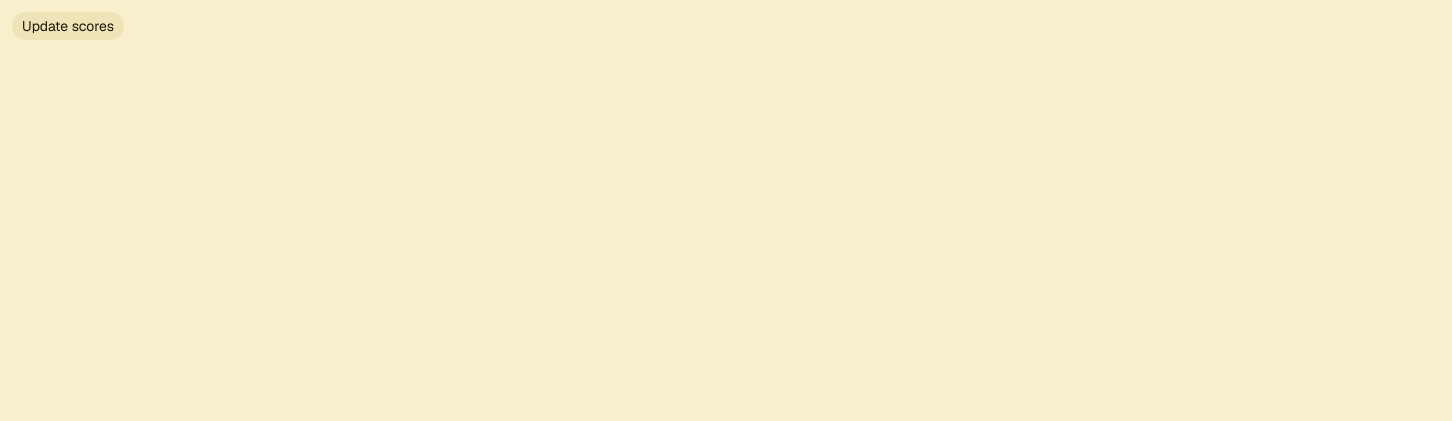
InlineRatingEditor (R51) › saves nothing while the sliders are moved
The image size is (1452, 421).
Click the button "Update scores". click: point(68, 26)
box: top-left (12, 12), bottom-right (124, 40)
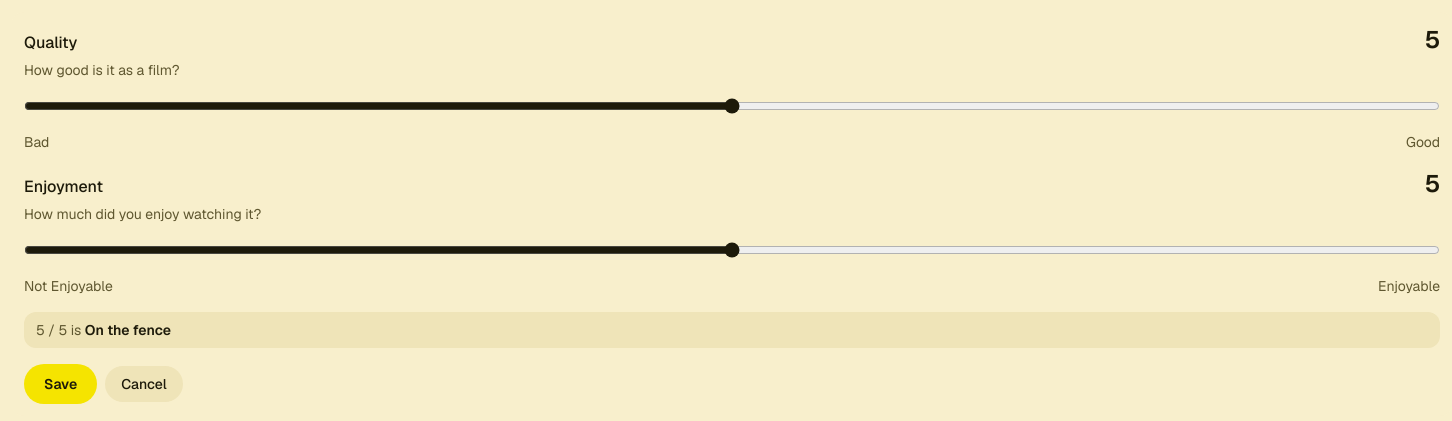
Set the slider labelled "Quality" to "8". click: point(1152, 106)
box: top-left (24, 84), bottom-right (1440, 128)
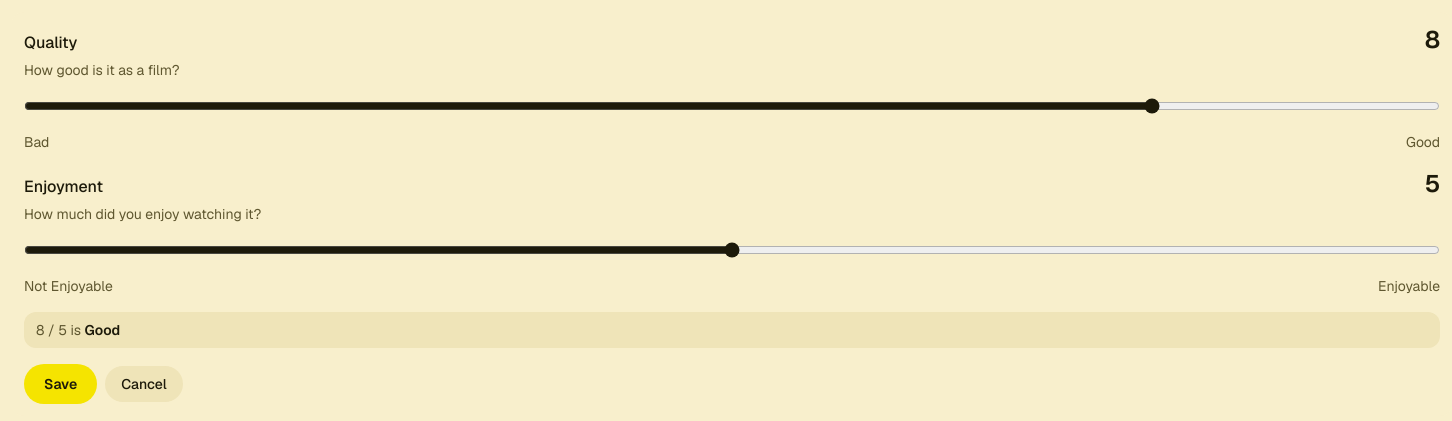
Set the slider labelled "Enjoyment" to "7". click: point(1012, 250)
box: top-left (24, 228), bottom-right (1440, 272)
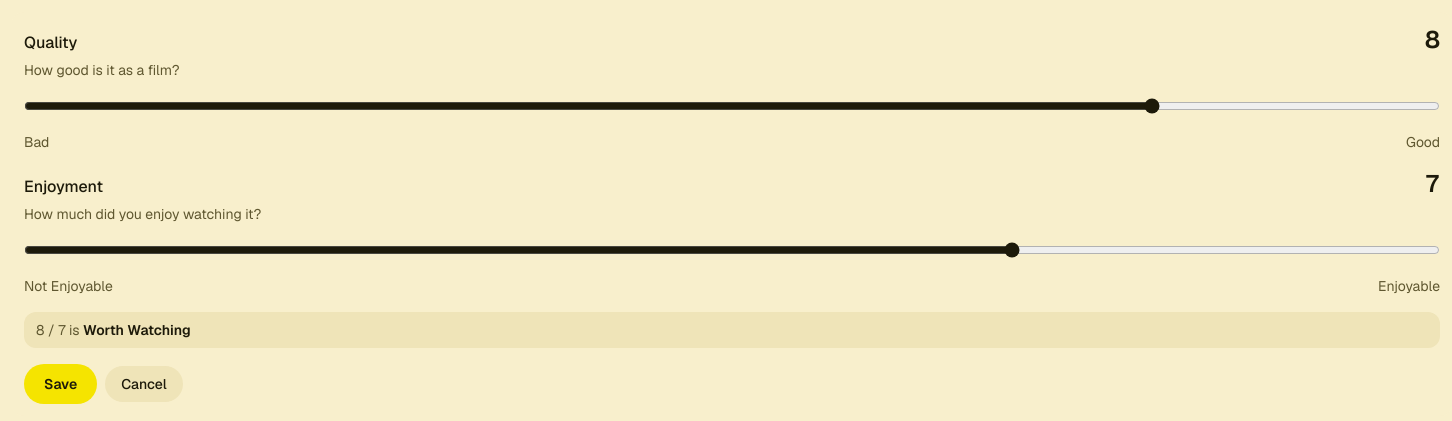
Now the element with test id "placement-preview" shows "Worth Watching", box top-left (83, 321), bottom-right (191, 339)
